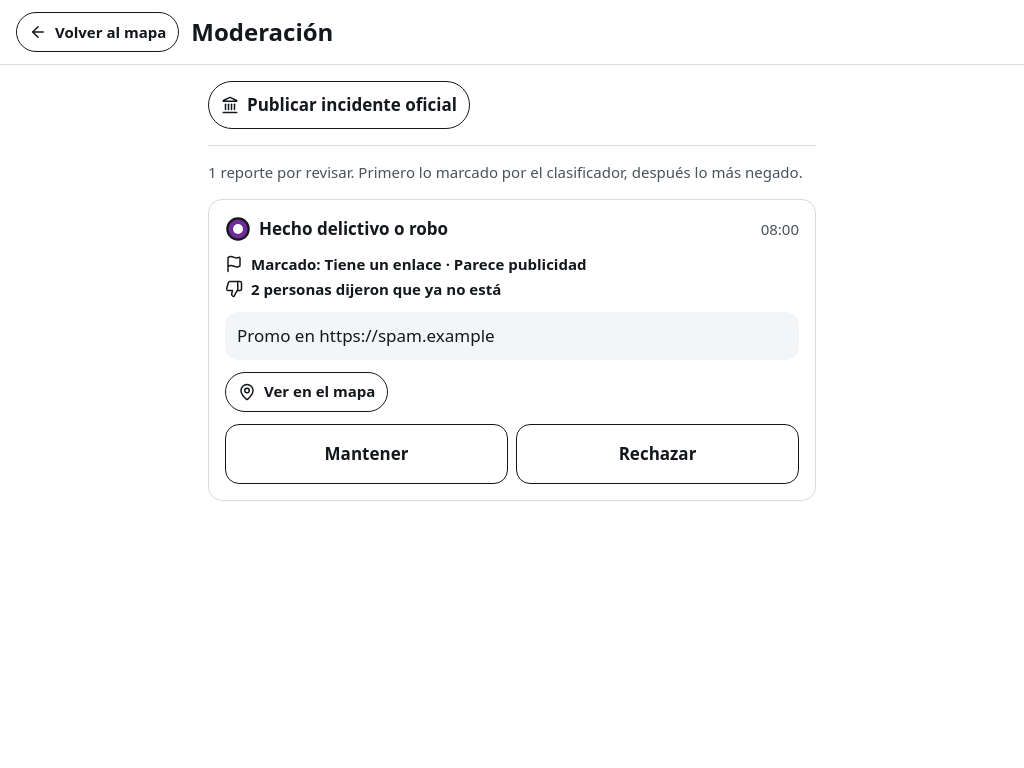
pantalla de moderación (HU-12) › cancelar el rechazo vuelve a las dos decisiones
Click the button "Rechazar" at point(658, 454), box left=516, top=424, right=799, bottom=484
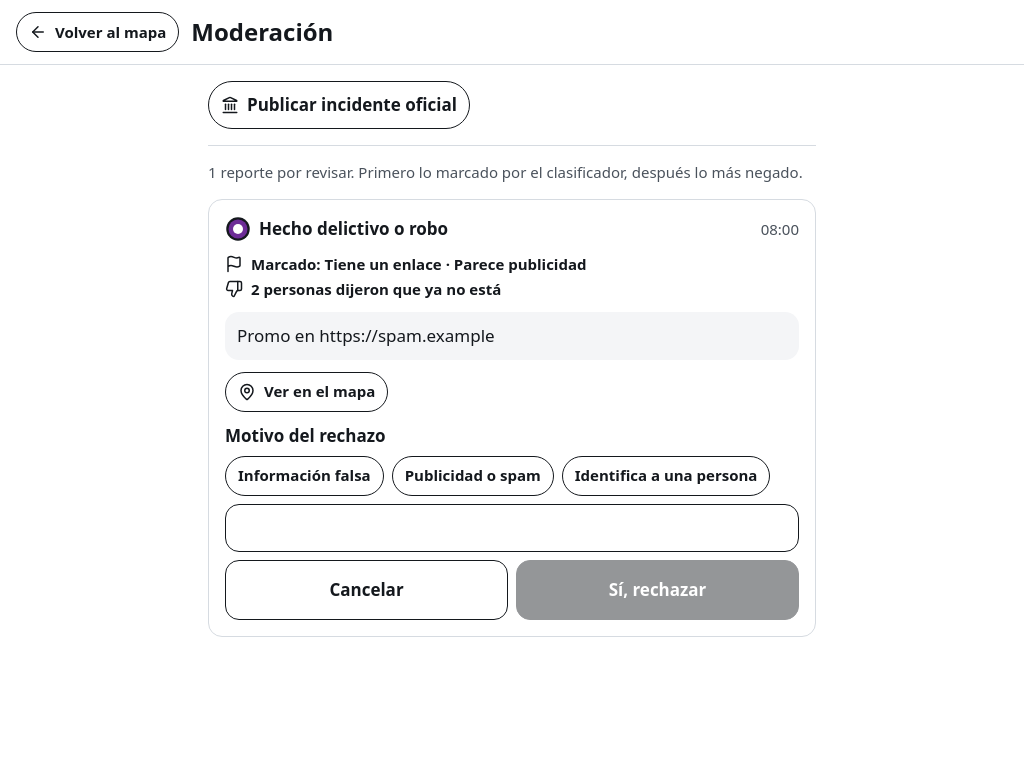
Click the button "Cancelar" at point(366, 590), box left=225, top=560, right=508, bottom=620
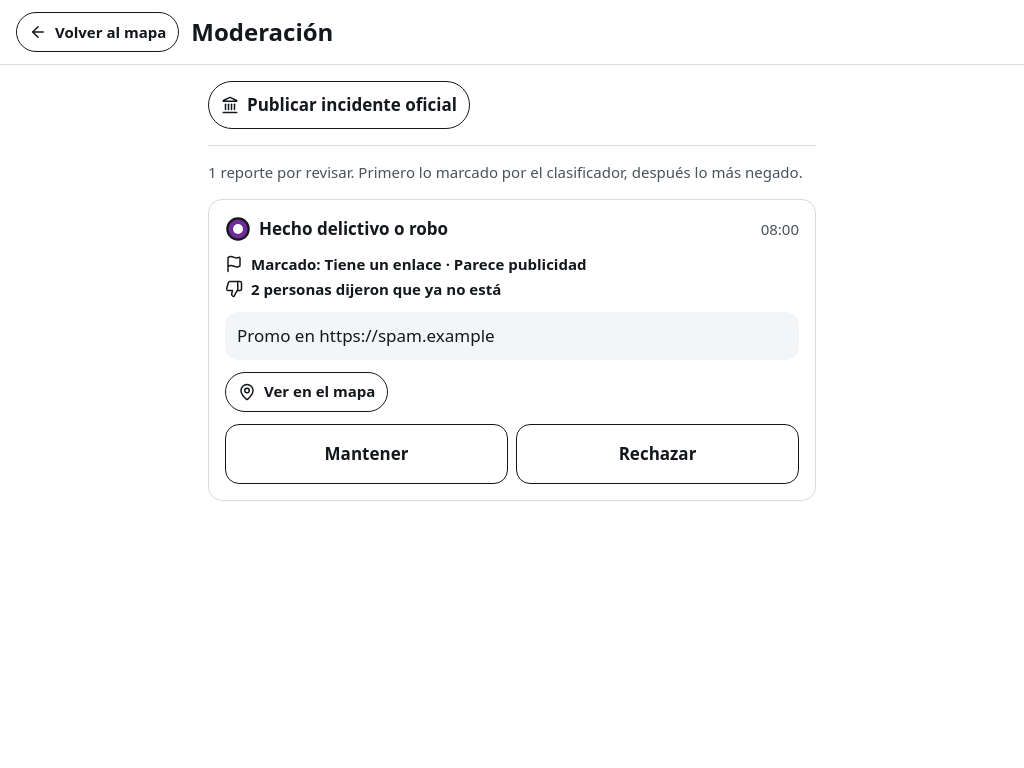
expect the button "Mantener" is shown: met, box left=225, top=424, right=508, bottom=484
